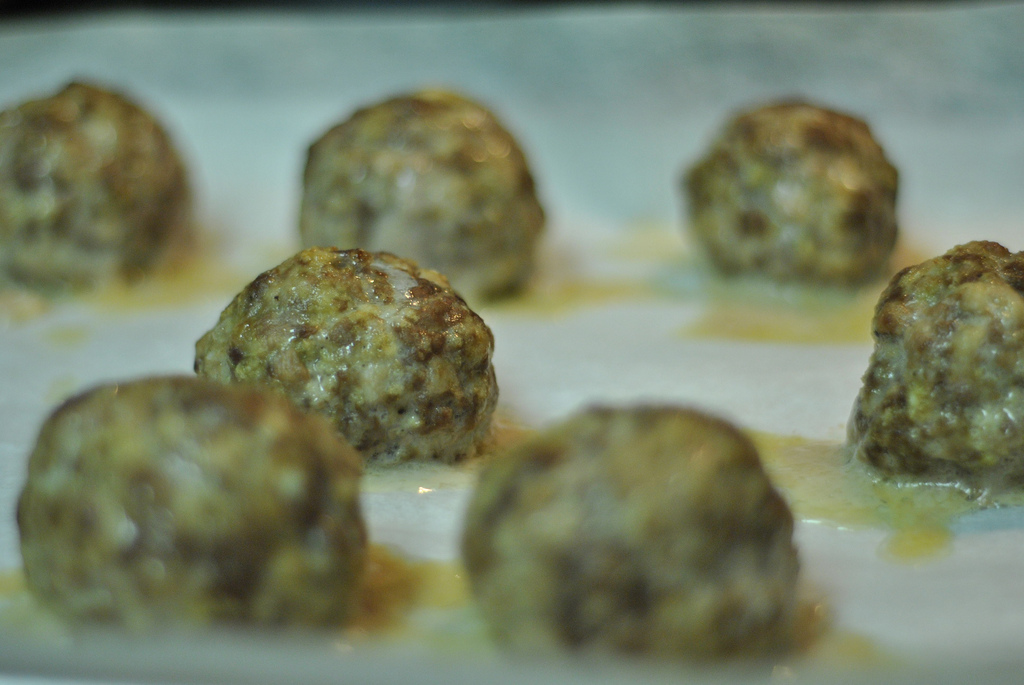meatballs: (475, 391, 815, 665), (20, 376, 364, 637), (197, 257, 510, 471), (849, 223, 1024, 509), (306, 92, 533, 300), (695, 93, 901, 282), (13, 84, 193, 284)
